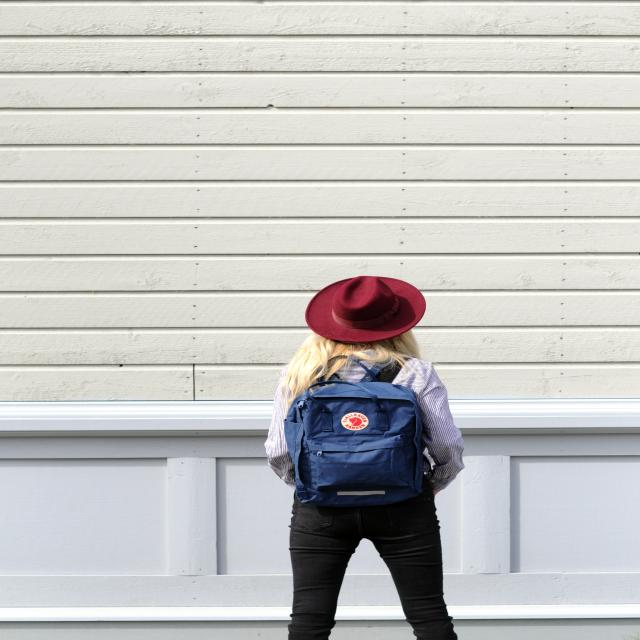backpack: (278, 352, 438, 505)
